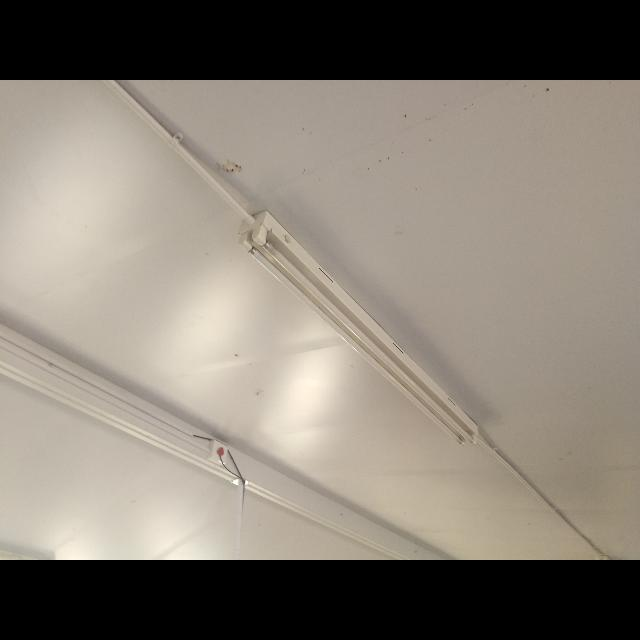Straight-Tube-Fluorescent-Lamp: (219, 197, 501, 459)
